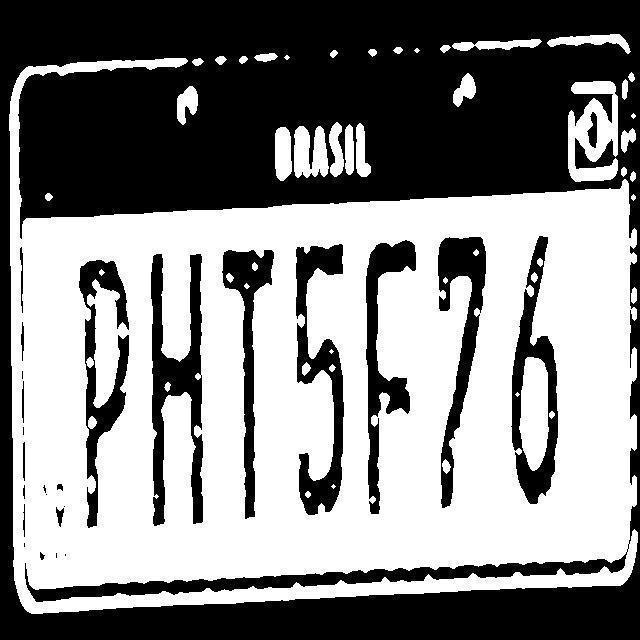5: (286, 234, 353, 528)
6: (512, 224, 574, 511)
7: (426, 224, 492, 522)
f: (357, 226, 425, 534)
h: (141, 236, 208, 533)
p: (70, 247, 136, 540)
t: (218, 221, 280, 540)
